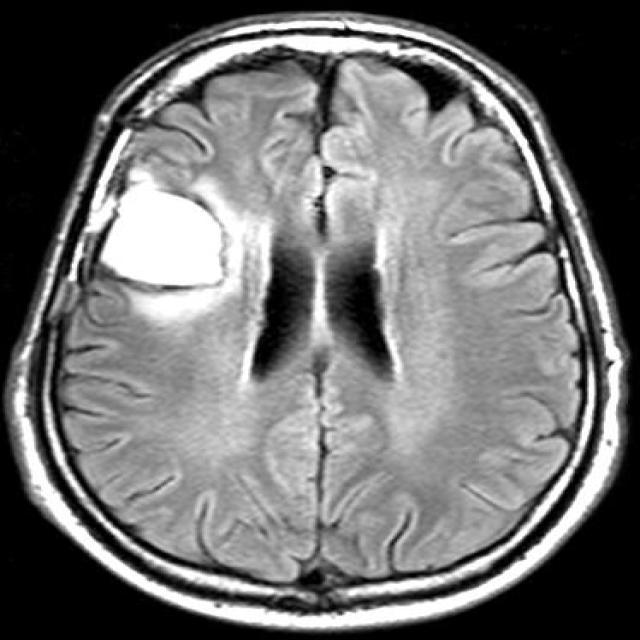Tumor-Cell: (96, 175, 225, 303)
